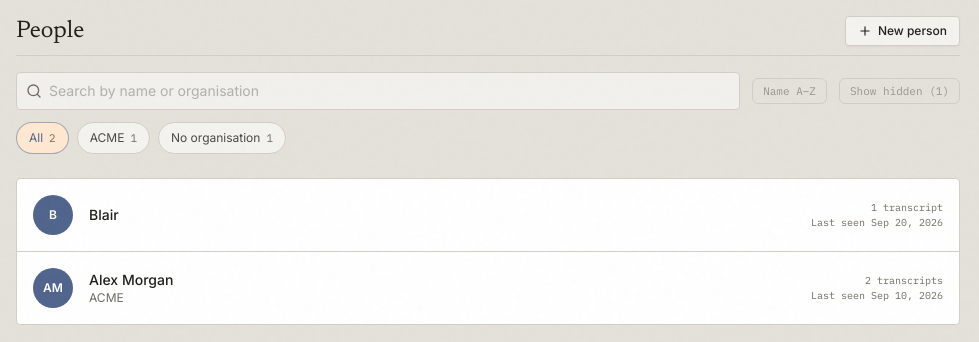
Test case: the organisation filter › offers All, each organisation and No organisation, with the people each would list
Click the button "No organisation 1": (222,138) [158, 122, 286, 154]
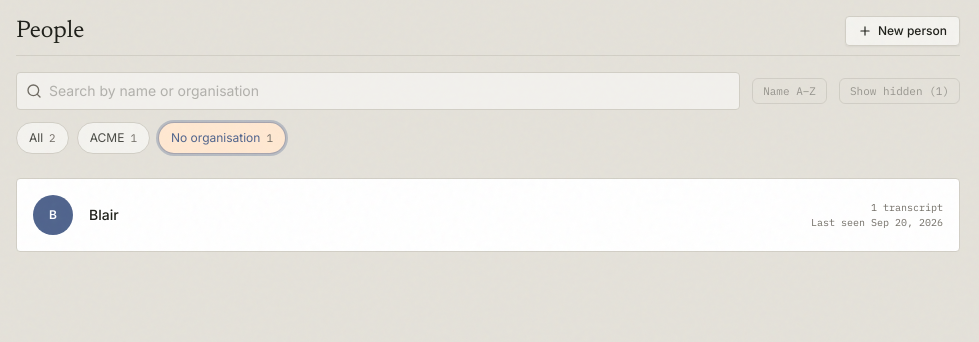
Expected: the button "All 2" is not pressed, [16, 122, 69, 154]
Click the button "Show hidden (1)": (900,91) [839, 78, 960, 104]
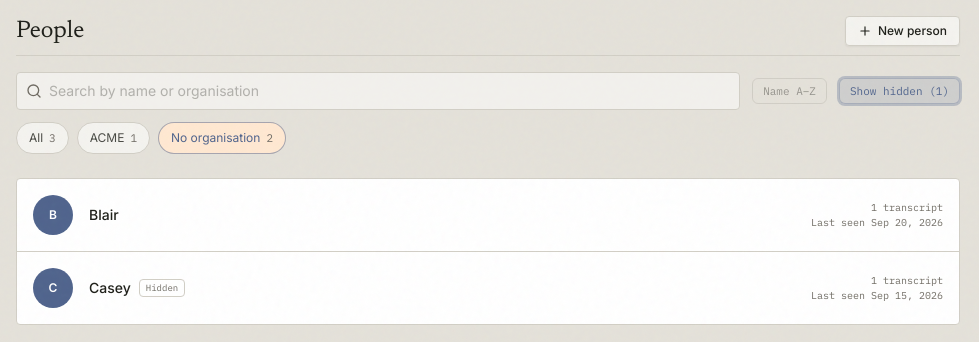
Expected: the button "No organisation 2" is shown, [158, 122, 286, 154]
